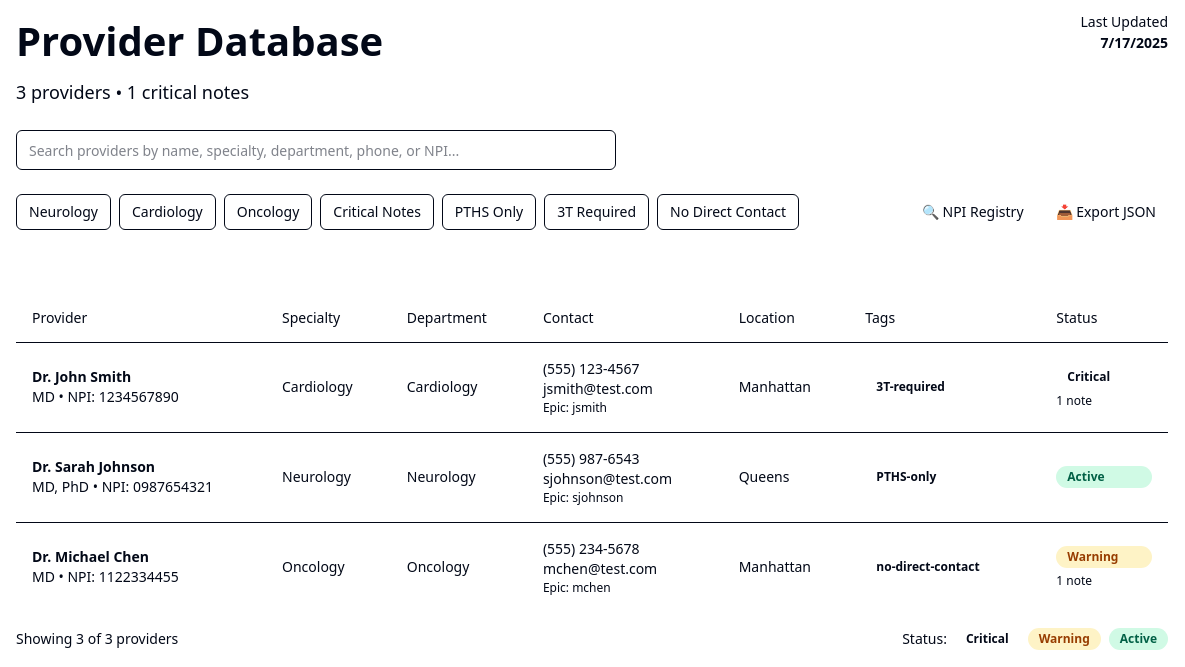
Providers Page - Core Functionality (TDD) › 3. Filter Logic (TDD) › can toggle filters on and off
# Apply filter
What coordinates should you click on to do the following:
click the button "Cardiology"
I would click on:
 (167, 212)
Its box is x1=119 y1=194 x2=216 y2=230.
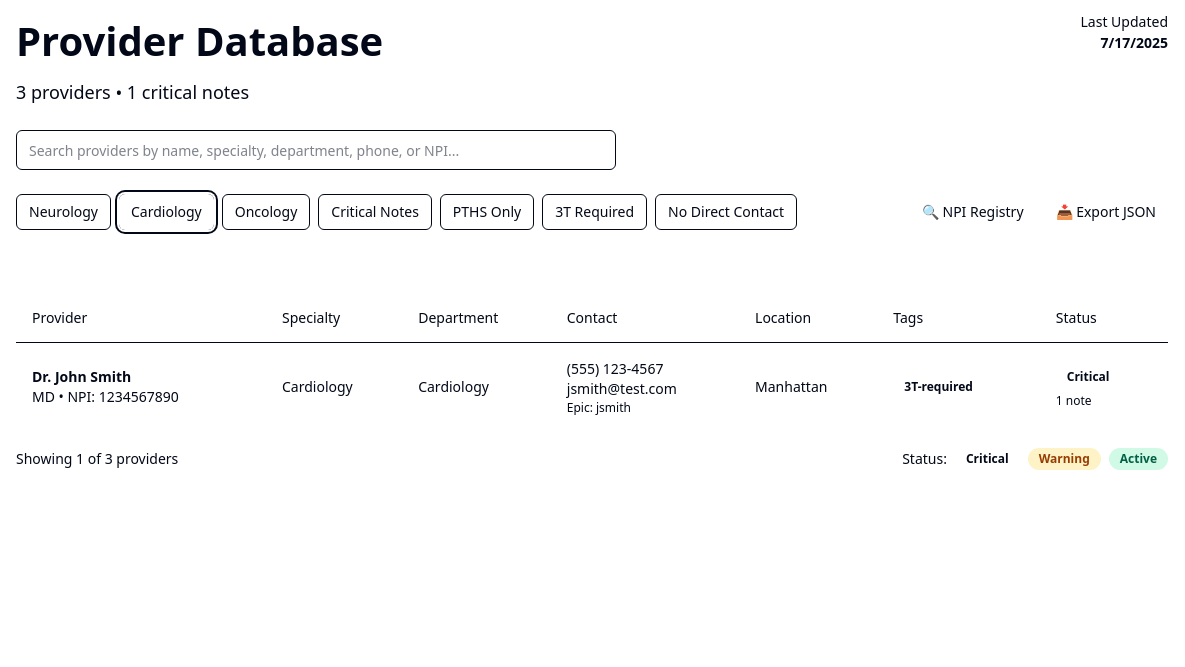
Now the text "Dr. Sarah Johnson" is gone
# Remove filter
What coordinates should you click on to do the following:
click the button "Cardiology"
I would click on:
 (166, 212)
Its box is x1=119 y1=194 x2=214 y2=230.
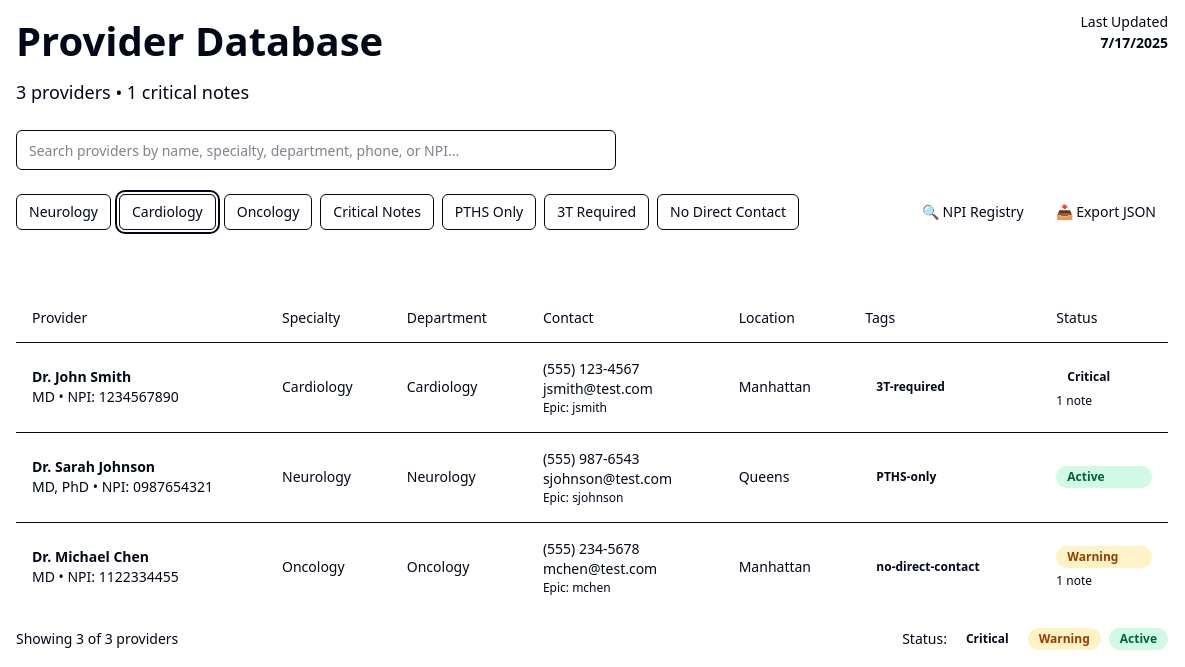
Now the text "Dr. Sarah Johnson" is shown, box x1=32 y1=457 x2=155 y2=476
